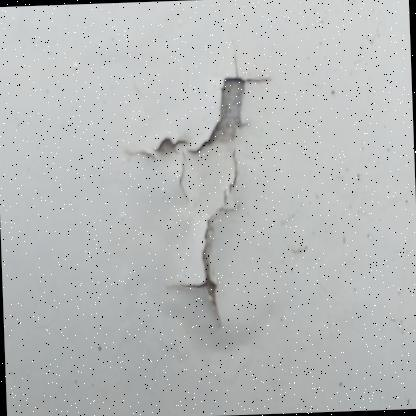Crack: (110, 26, 320, 373)
